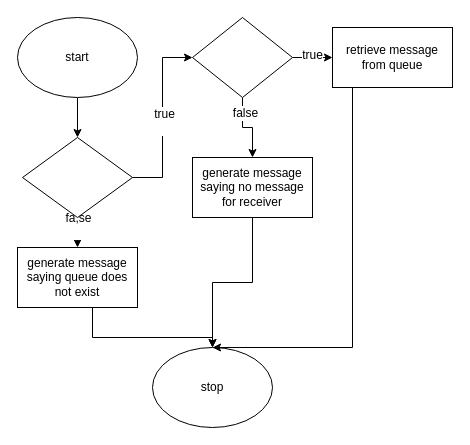
The diagram is 470 pixels wide and 445 high, and some of its shapes have lost their labels. The centre of each missing label's shape, as x and y in pixels:
"check message exist for the receiver" belongs at (242,57).
"check queue exist" belongs at (77,177).
